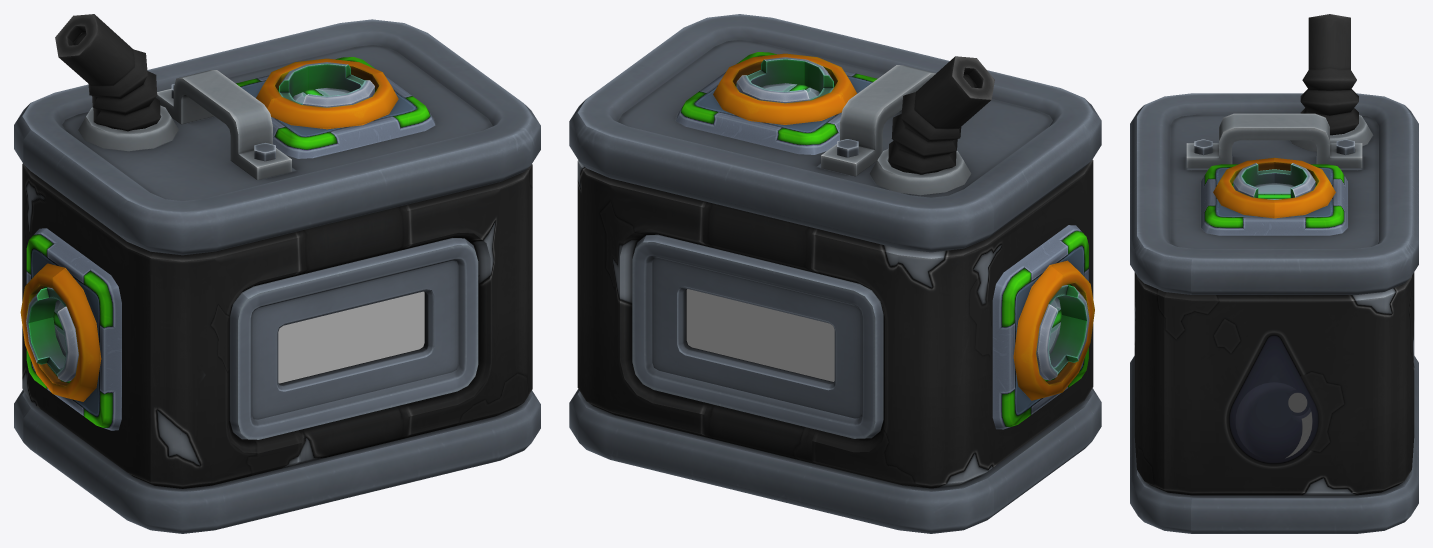
The model's file is obj_containers_gas.fbx.
3 views of the same model, side by side, from view 1: azimuth 30°, elevation 25°; view 2: azimuth 150°, elevation 25°; view 3: azimuth 270°, elevation 25° (orthographic). The views are drawn at different scales.
Visible parts, largest first — view 1: obj_containers_gas; view 2: obj_containers_gas; view 3: obj_containers_gas.
Part boxes in pixels (bbox=[...]): obj_containers_gas: bbox=[14, 14, 540, 533]; obj_containers_gas: bbox=[569, 14, 1101, 533]; obj_containers_gas: bbox=[1130, 14, 1418, 533].
Bounding box in the file's own units: 4.39 × 4.2 × 2.94.
